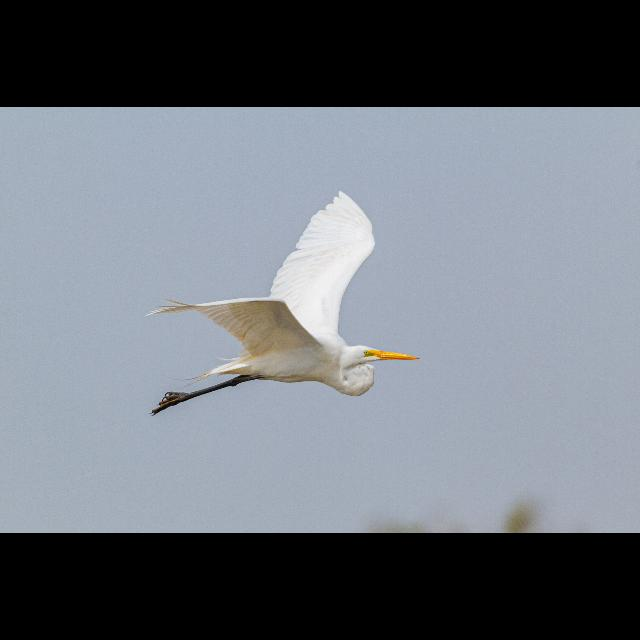egret: (148, 191, 418, 423)
